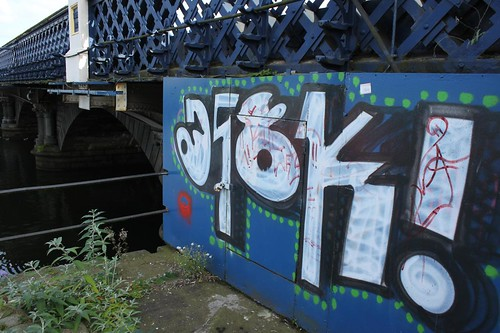bridge: (1, 2, 280, 168)
graffiti: (163, 76, 496, 319)
